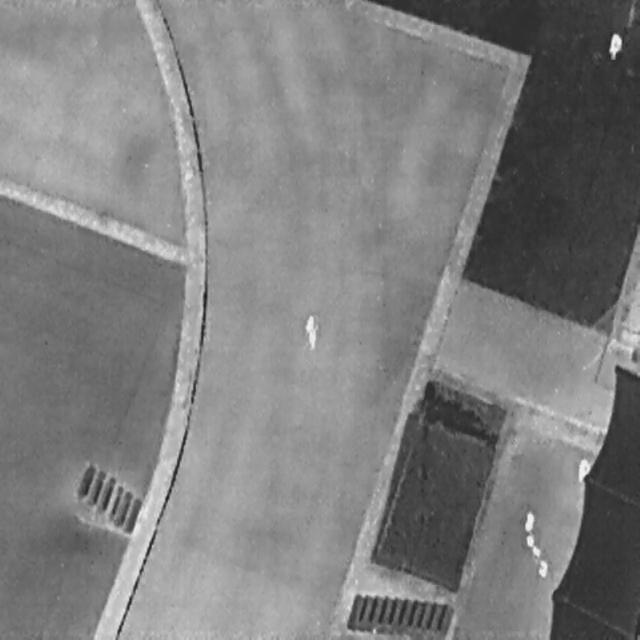Person: (605, 30, 622, 62), (574, 454, 592, 484), (304, 314, 318, 350)
